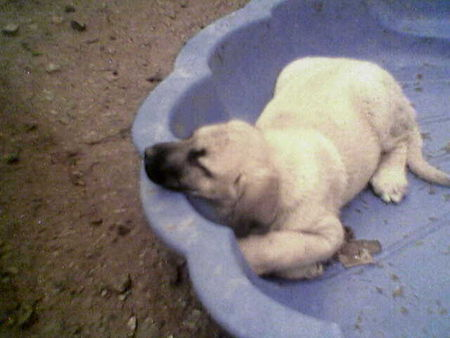kangal: (142, 56, 449, 280)
